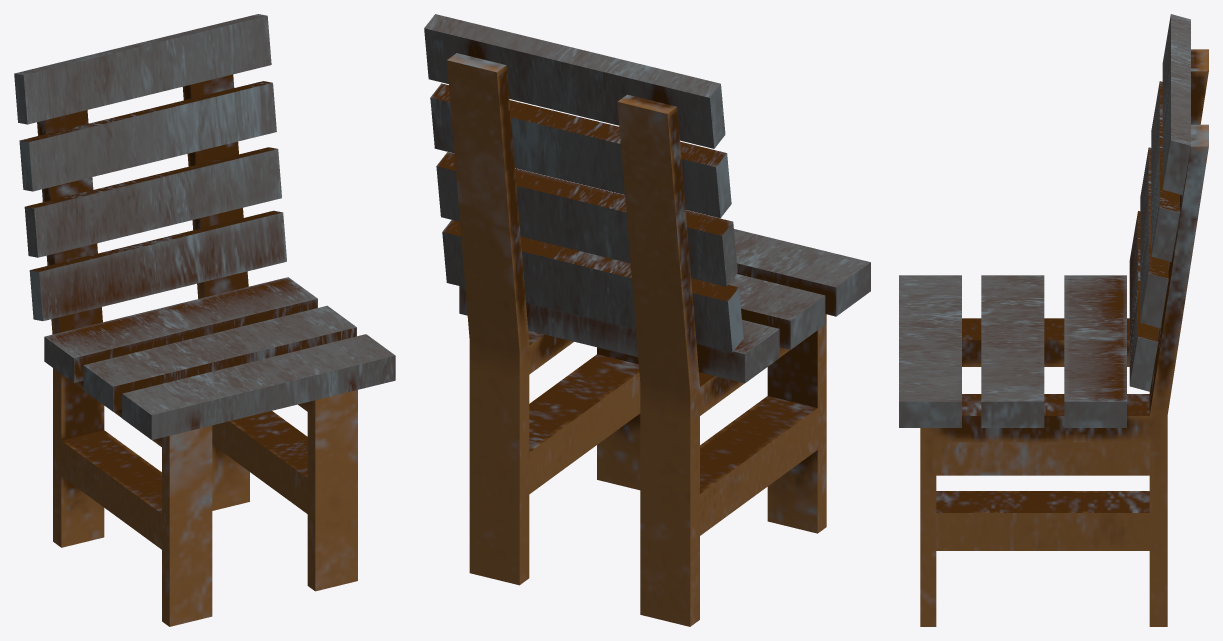
Rendered from SM_chair_01.fbx.
3 views of the same model, side by side, from view 1: azimuth 30°, elevation 25°; view 2: azimuth 150°, elevation 25°; view 3: azimuth 270°, elevation 25° (orthographic). The views are drawn at different scales.
Visible parts, largest first — view 1: SM_chair_01; view 2: SM_chair_01; view 3: SM_chair_01.
Boxes of the visible parts, x1=… form: SM_chair_01: x1=14, y1=14, x2=395, y2=626; SM_chair_01: x1=424, y1=14, x2=870, y2=626; SM_chair_01: x1=899, y1=14, x2=1208, y2=626.
Bounding box in the file's own units: 64.29 × 119 × 66.59.
